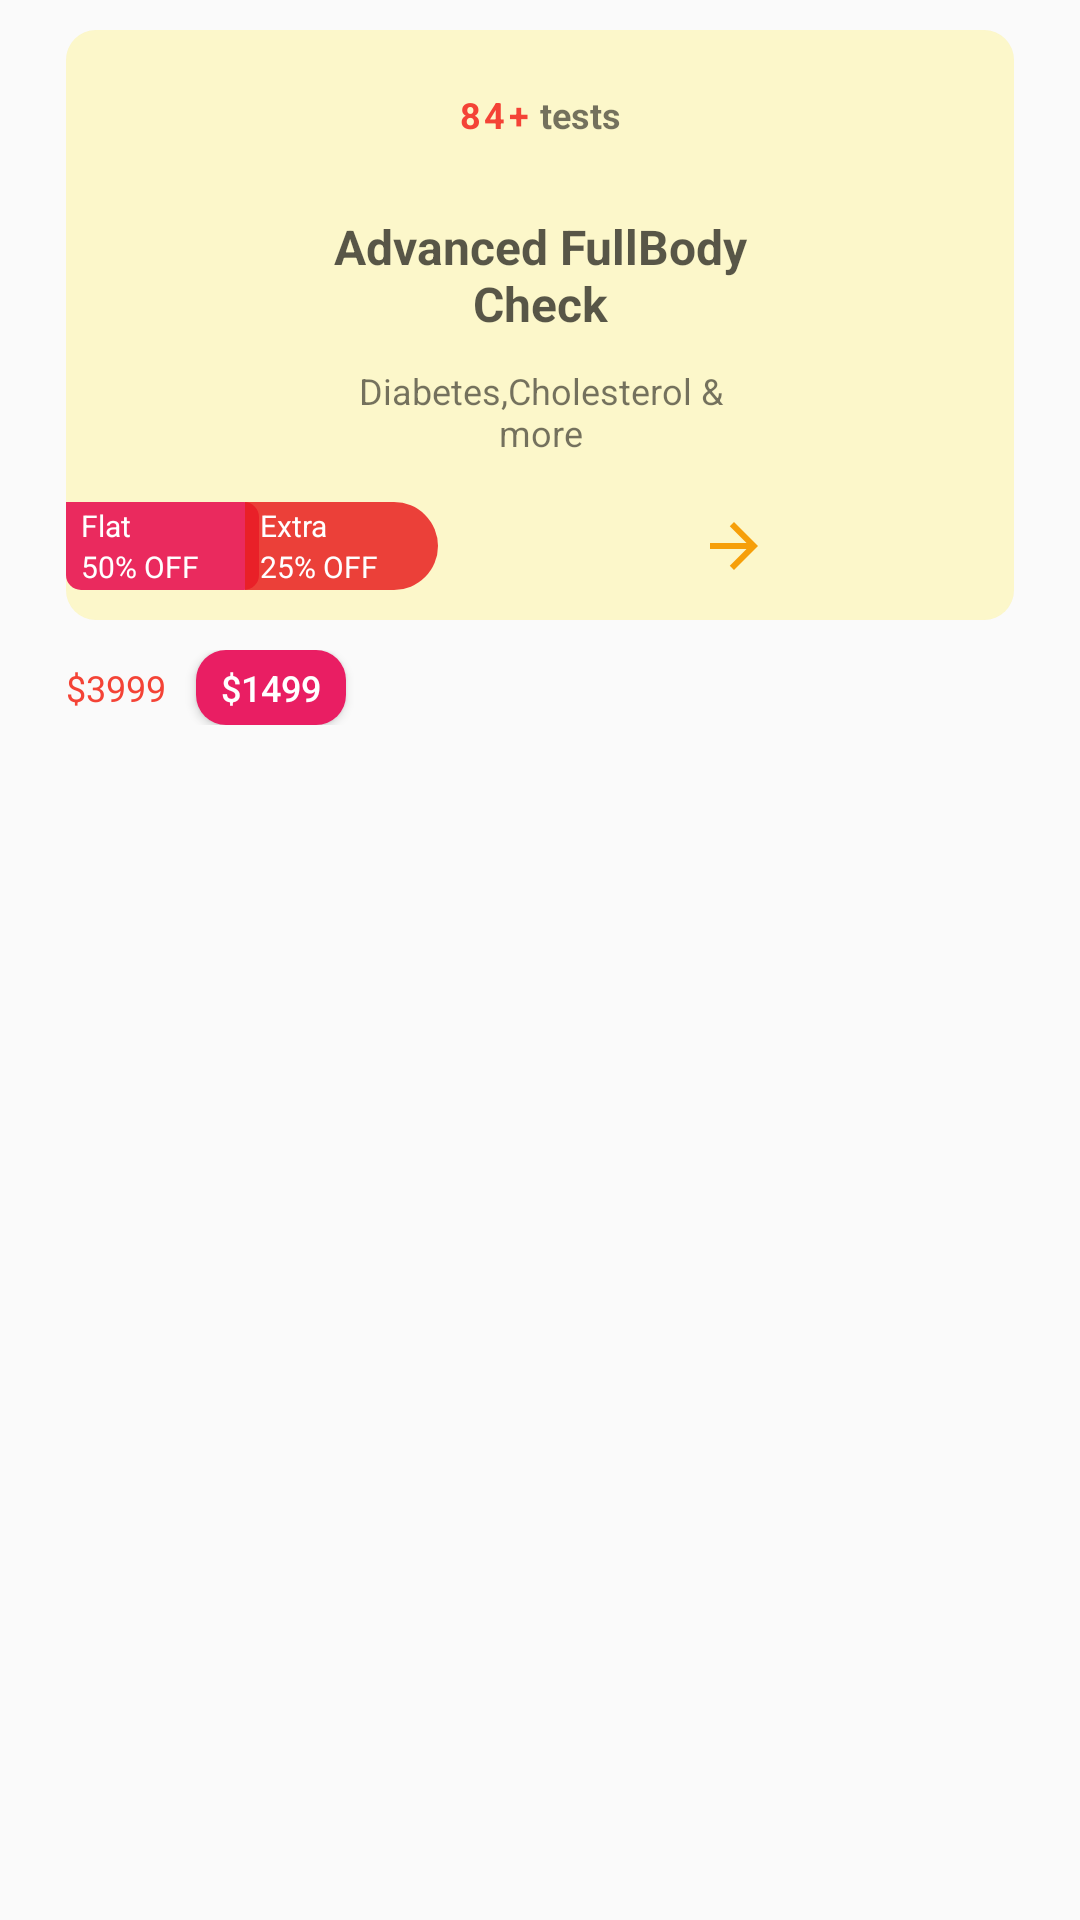

Where icons sit on this 1080px x 1920px app screen, as box(x1, y1, x2, y2):
arrow forward: box(710, 522, 758, 570)
